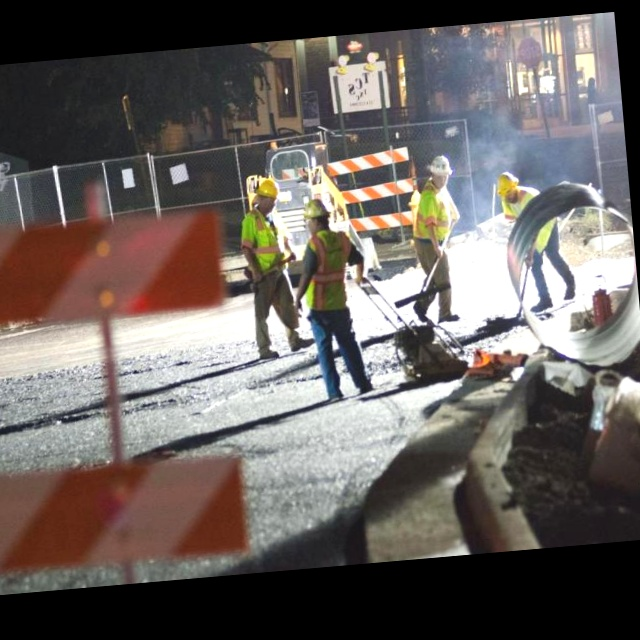Con_Casco: (426, 155, 453, 184)
Con_Chaleco: (299, 227, 354, 314), (239, 211, 288, 272), (410, 184, 456, 242)
